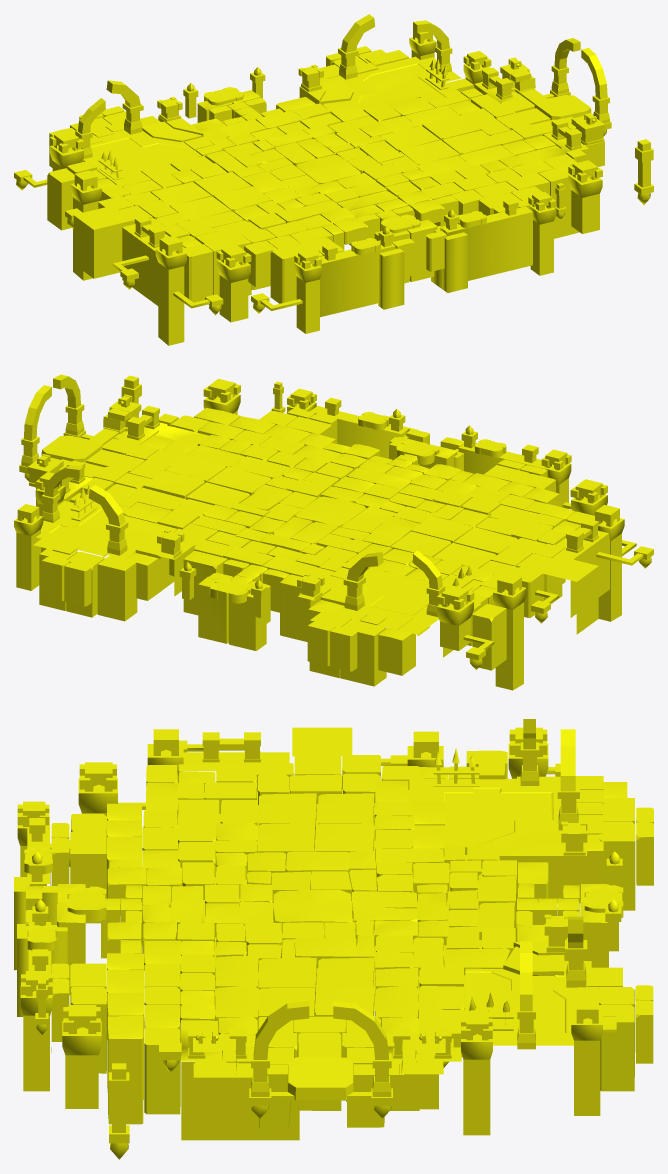
The picture shows the model from 3 angles, top to bottom: view 1: azimuth 30°, elevation 25°; view 2: azimuth 150°, elevation 25°; view 3: azimuth 270°, elevation 25°; orthographic projection. The views are drawn at different scales.
Visible parts, largest first — view 1: an01, an02, stone01; view 2: an01, an02; view 3: an01, an02, stone01.
Boxes of the visible parts, bbox=[...] form: an01: bbox=[14, 14, 611, 345]; an02: bbox=[49, 57, 602, 322]; stone01: bbox=[634, 139, 653, 204]; an01: bbox=[14, 374, 653, 690]; an02: bbox=[37, 378, 607, 650]; an01: bbox=[14, 719, 653, 1140]; an02: bbox=[62, 727, 623, 1108]; stone01: bbox=[108, 1063, 129, 1159].
Size of the model in its own units: 34.66 by 9.24 by 25.34.
Materials: 2 (2 with a texture image).
